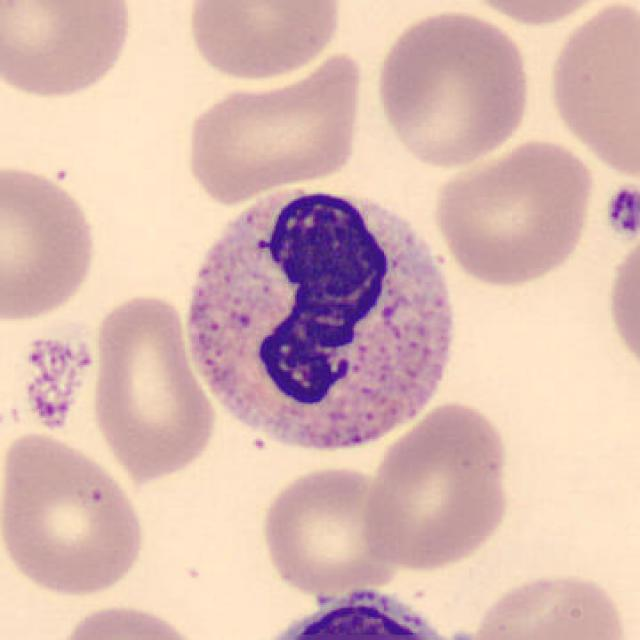Neutrophil: (170, 173, 468, 472), (233, 578, 485, 640)
Platelets: (16, 330, 96, 437), (601, 180, 638, 243)
RBC: (178, 46, 370, 206), (358, 398, 516, 573), (370, 5, 535, 171), (0, 426, 149, 601), (428, 136, 598, 289), (85, 289, 219, 483), (256, 462, 402, 596), (542, 0, 638, 182), (0, 160, 101, 326), (0, 0, 139, 104), (181, 0, 347, 85), (469, 567, 632, 640), (52, 601, 206, 640), (602, 227, 640, 380), (455, 0, 622, 28)
